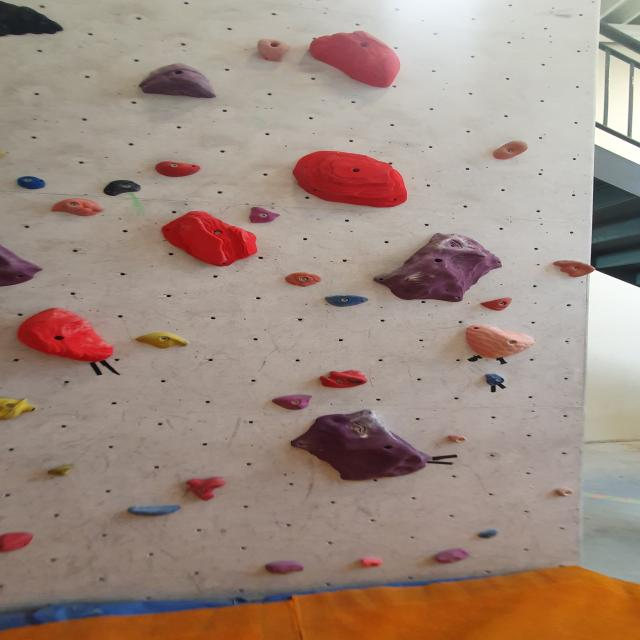Crimp: (288, 408, 433, 487), (371, 232, 502, 308), (289, 150, 413, 208), (158, 209, 264, 267), (0, 235, 44, 290), (132, 332, 195, 352), (125, 503, 187, 522), (152, 161, 205, 180), (487, 138, 531, 160), (261, 556, 309, 576), (430, 546, 475, 567), (321, 292, 374, 308), (478, 296, 516, 316), (284, 270, 326, 288), (247, 206, 282, 225), (13, 174, 50, 191), (44, 461, 80, 478), (481, 371, 512, 387), (359, 555, 386, 571), (472, 528, 503, 540), (552, 487, 579, 499), (445, 432, 471, 444)
Jug: (0, 0, 67, 37), (183, 476, 229, 505), (0, 396, 43, 425), (551, 259, 596, 282)
Pinch: (253, 38, 294, 61)
Pocket: (317, 371, 370, 391)
Sloper: (304, 31, 408, 89), (14, 311, 121, 366), (135, 61, 221, 100), (460, 320, 539, 361), (49, 198, 107, 220), (0, 529, 36, 555)
